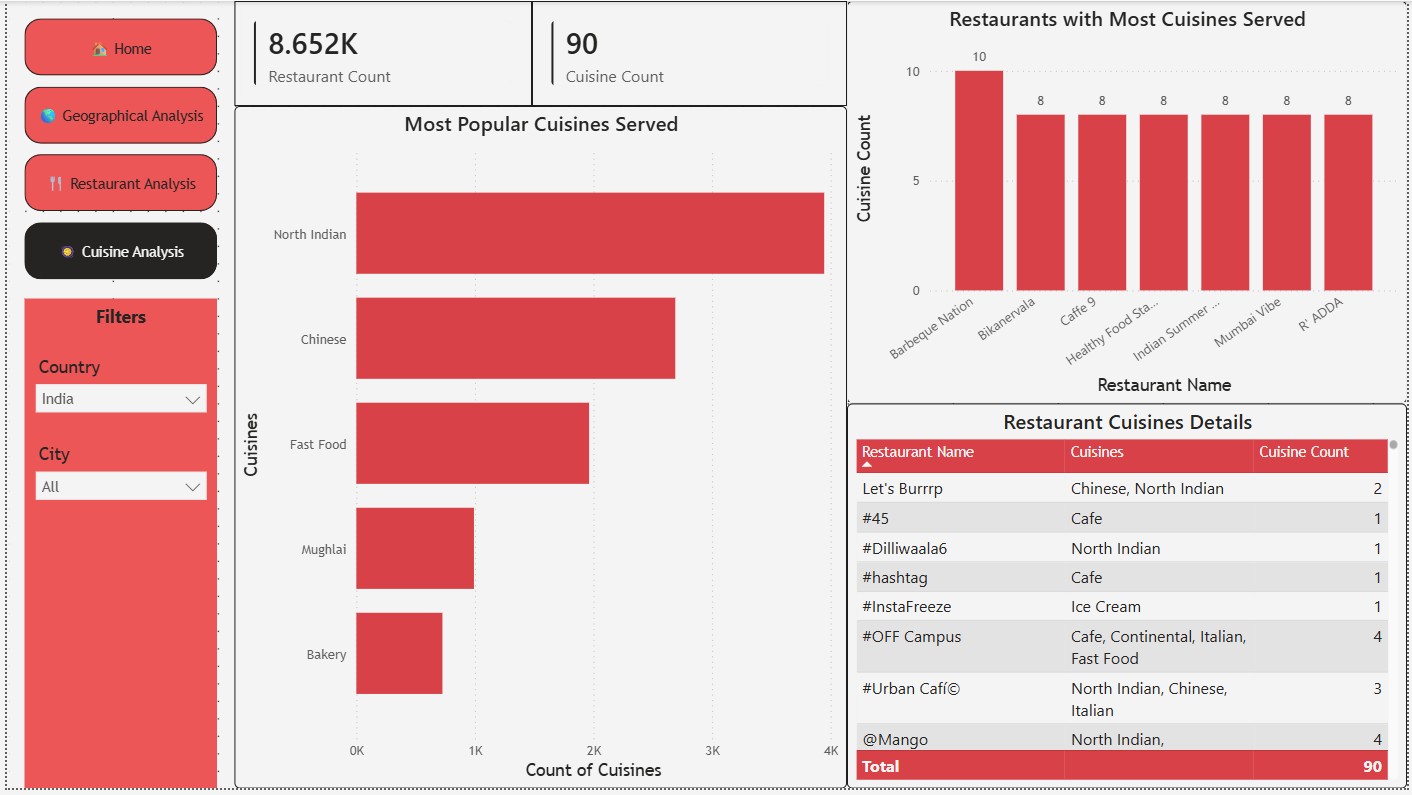

This screenshot's page, from the dashboard's own definition file:
{"tool":"powerbi","page":{"name":"🥘 Cuisine Analysis","canvas":[1280,720],"ordinal":3},"visuals":[{"type":"group","id":"g1","title":"Group 1","box":[16,16,176,704],"z":0},{"type":"cardVisual","fields":{"Data":["KPIs.Cuisine Count"]},"box":[480,0,288,96],"z":1000},{"type":"clusteredBarChart","title":"Most Popular Cuisines Served","fields":{"Category":["Cuisines List.Cuisines"],"Y":["CountNonNull(Cuisines List.Cuisines)"]},"box":[208,96,560,624],"z":2000},{"type":"clusteredColumnChart","title":"Restaurants with Most Cuisines Served","fields":{"Y":["Cuisines List.Cuisine Count"],"Category":["Zomato All Continents.Restaurant Name"]},"box":[768,0,512,368],"z":3000},{"type":"cardVisual","fields":{"Data":["KPIs.Restaurant Count"]},"box":[208,0,272,96],"z":5000},{"type":"tableEx","title":"Restaurant Cuisines Details ","fields":{"Values":["Zomato All Continents.Restaurant Name","Zomato All Continents.Cuisines","Cuisines List.Cuisine Count"]},"box":[768,368,512,352],"z":6000},{"type":"pageNavigator","box":[16,16,176,240],"z":8000,"group":"g1"},{"type":"shape","box":[16,272,176,448],"z":9000,"group":"g1"},{"type":"textbox","box":[16,272,176,48],"z":10000,"group":"g1"},{"type":"slicer","fields":{"Values":["Zomato All Continents.Country"]},"box":[16,320,176,64],"z":12500,"group":"g1"},{"type":"slicer","fields":{"Values":["Zomato All Continents.City"]},"box":[16,400,176,64],"z":13000,"group":"g1"}]}

Visuals, with their boxes in screenshot pixels (x1, y1, x2, y2), scaled from the page's 1280x720 canvas onto the 1412x795 screenshot:
"Group 1" group: bbox=[18, 18, 212, 794]
cardVisual - KPIs.Cuisine Count: bbox=[530, 0, 847, 106]
"Most Popular Cuisines Served" clusteredBarChart: bbox=[229, 106, 847, 794]
"Restaurants with Most Cuisines Served" clusteredColumnChart: bbox=[847, 0, 1411, 406]
cardVisual - KPIs.Restaurant Count: bbox=[229, 0, 530, 106]
"Restaurant Cuisines Details " tableEx: bbox=[847, 406, 1411, 794]
pageNavigator: bbox=[18, 18, 212, 283]
shape: bbox=[18, 300, 212, 794]
textbox: bbox=[18, 300, 212, 353]
slicer - Zomato All Continents.Country: bbox=[18, 353, 212, 424]
slicer - Zomato All Continents.City: bbox=[18, 442, 212, 512]
